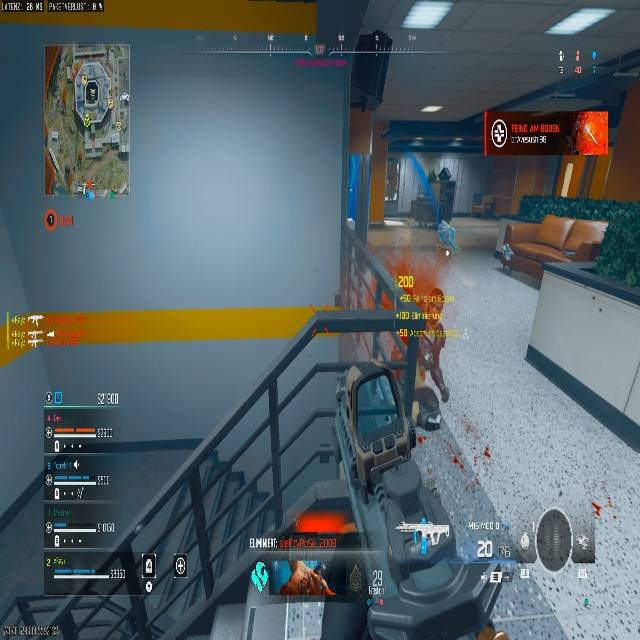player: (432, 159, 458, 232)
